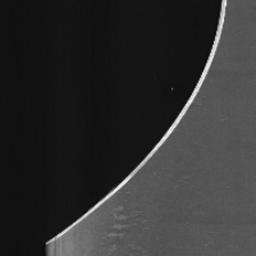Crescent gap: (47, 0, 221, 240)
